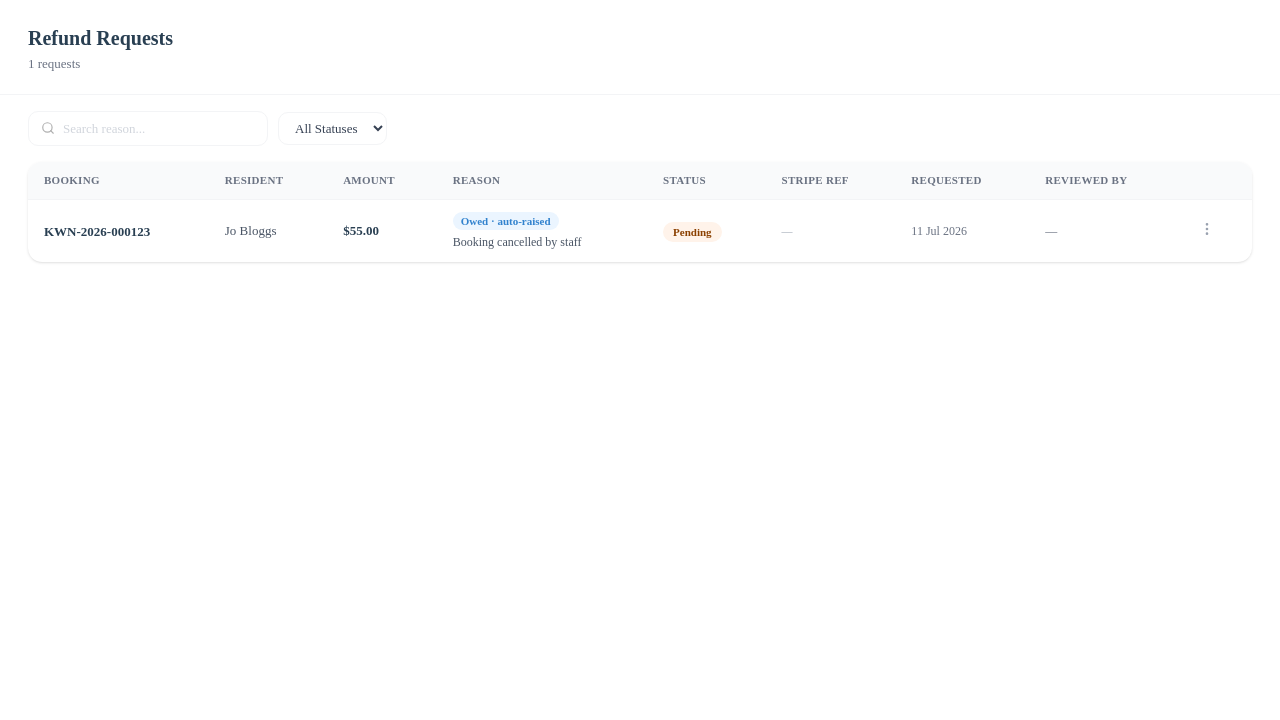
Scenario: RefundsClient — reject confirm gate › Keep Request closes the dialog without rejecting
The width and height of the screenshot is (1280, 720).
Expected: the text "Owed · auto-raised" is shown, [453,212,558,230]
Click the button named "Open actions menu" at (1207, 229), box [1195,217,1219,241]
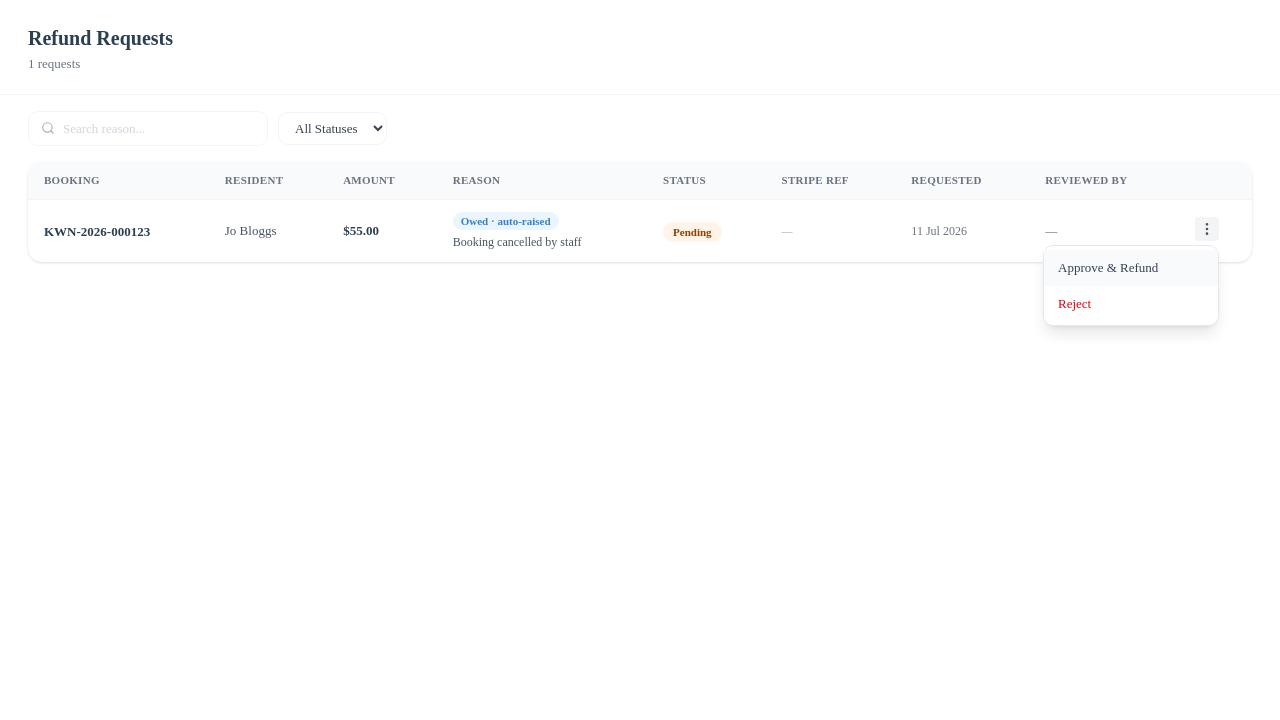
Click the menu item "Reject" at (1075, 303), box [1058,296,1091,310]
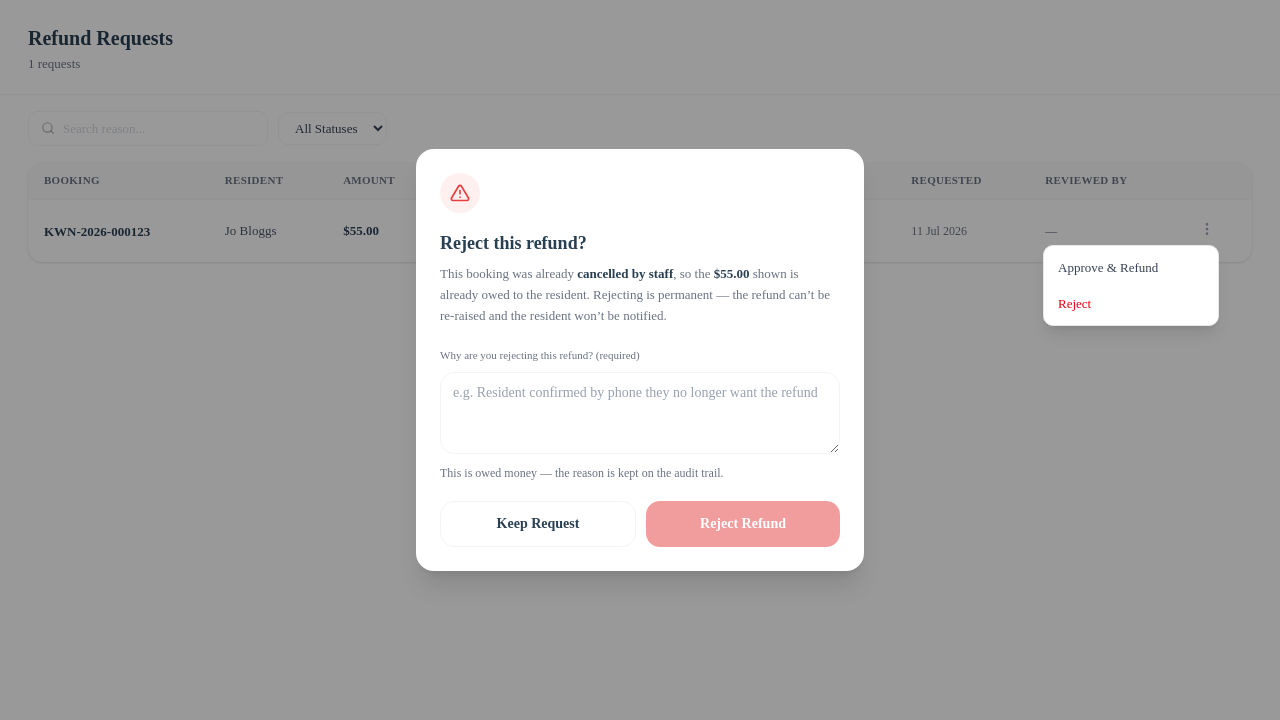
Result: the heading "Reject this refund?" is shown at [440,233,587,253]
Click the button "Keep Request" at (538, 524), box [440,501,636,547]
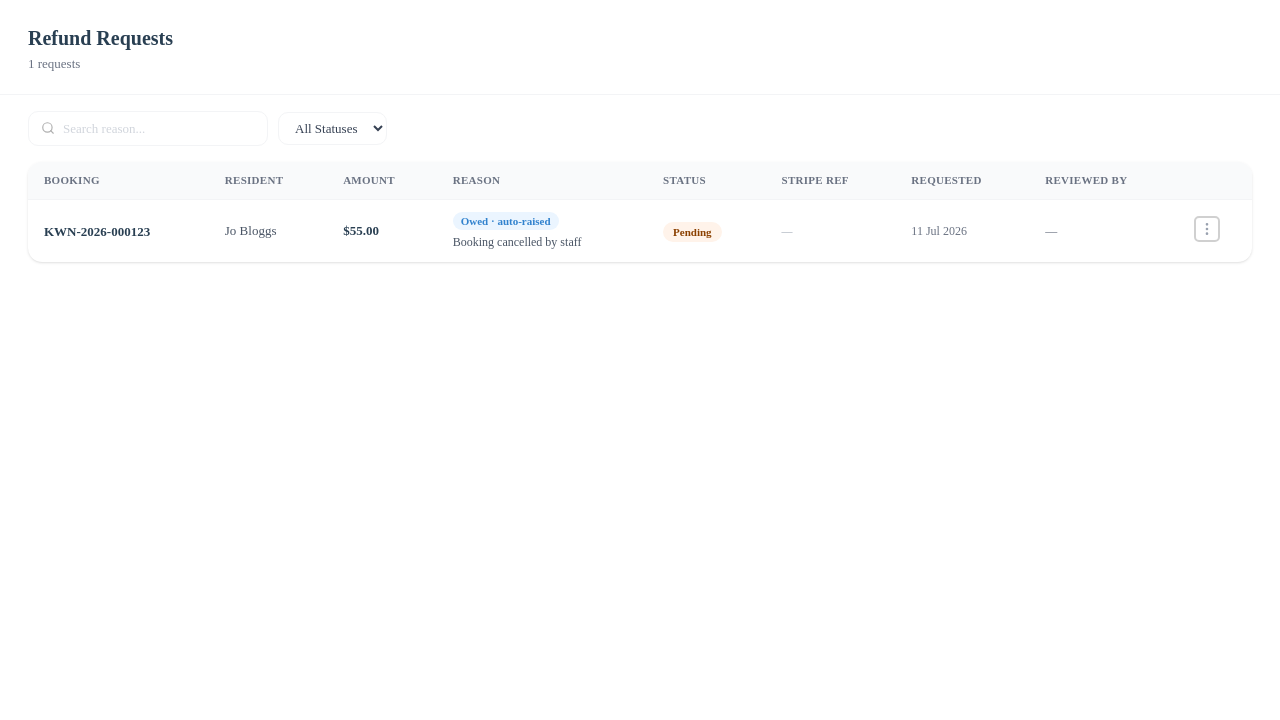
Result: the heading "Reject this refund?" is gone
